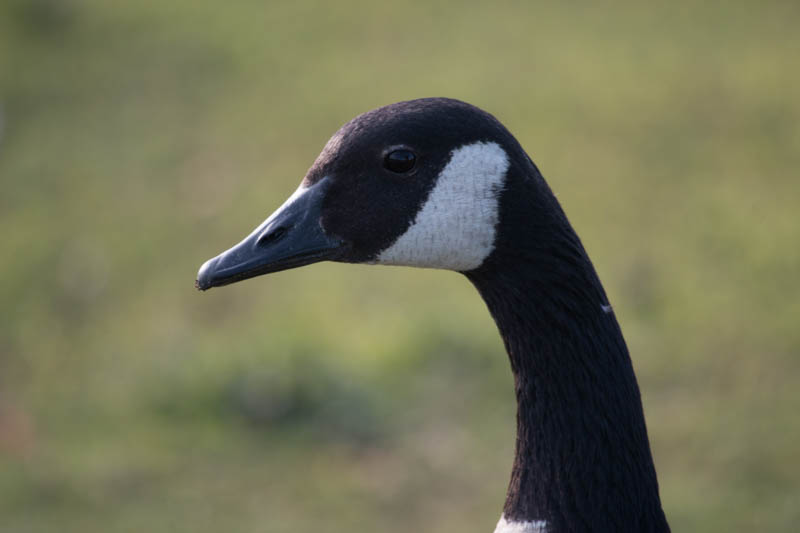goose-head: (195, 98, 592, 291)
